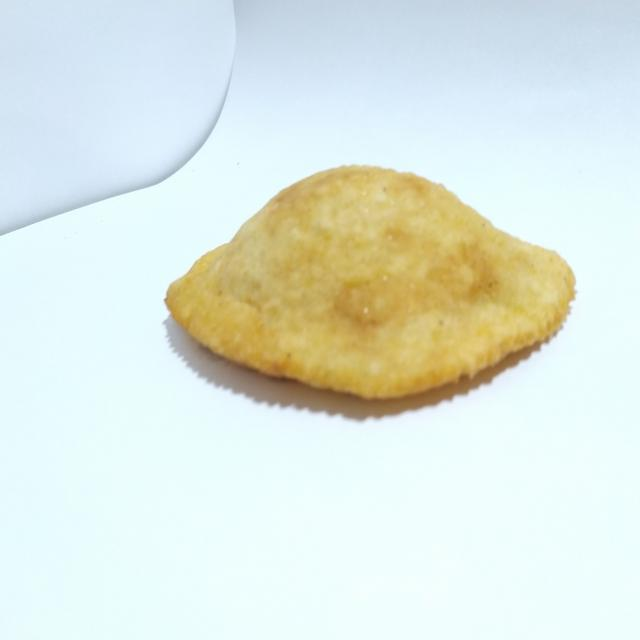Food: (150, 154, 586, 428)
